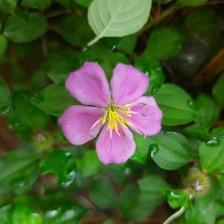malabar melastome: (58, 60, 166, 165)
